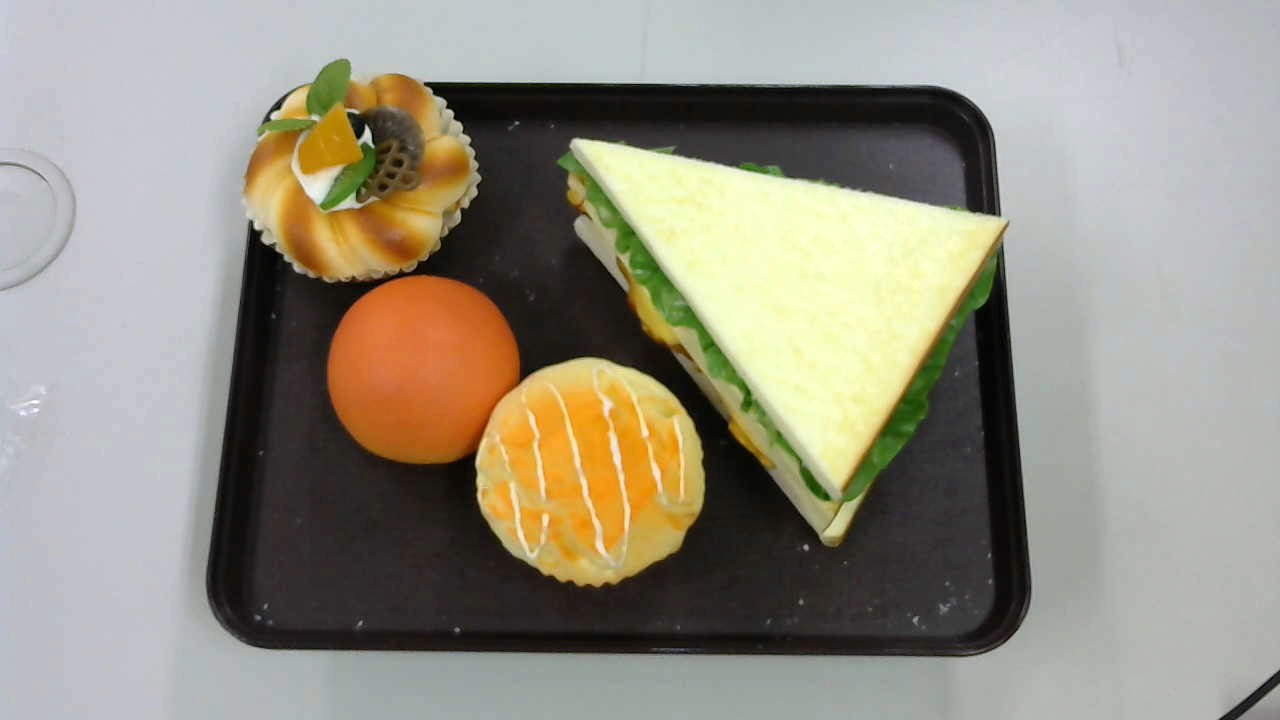bun: (329, 276, 524, 464)
cupcake: (476, 357, 706, 587)
fruit tart: (240, 55, 483, 280)
sandwich: (557, 137, 1012, 550)
